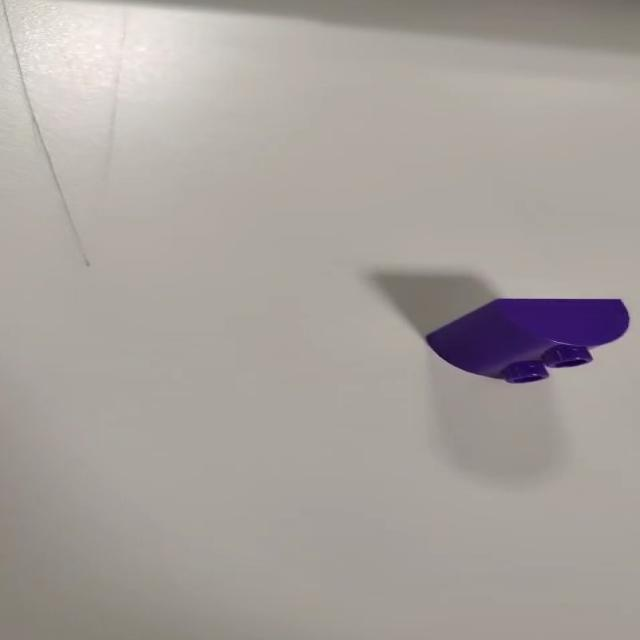H2x2x1: (428, 299, 634, 388)
